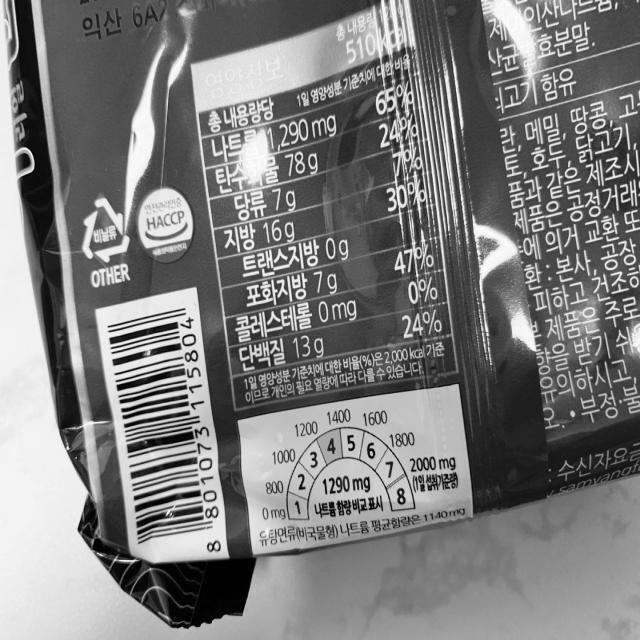Nutrition Label: (185, 7, 464, 400)
